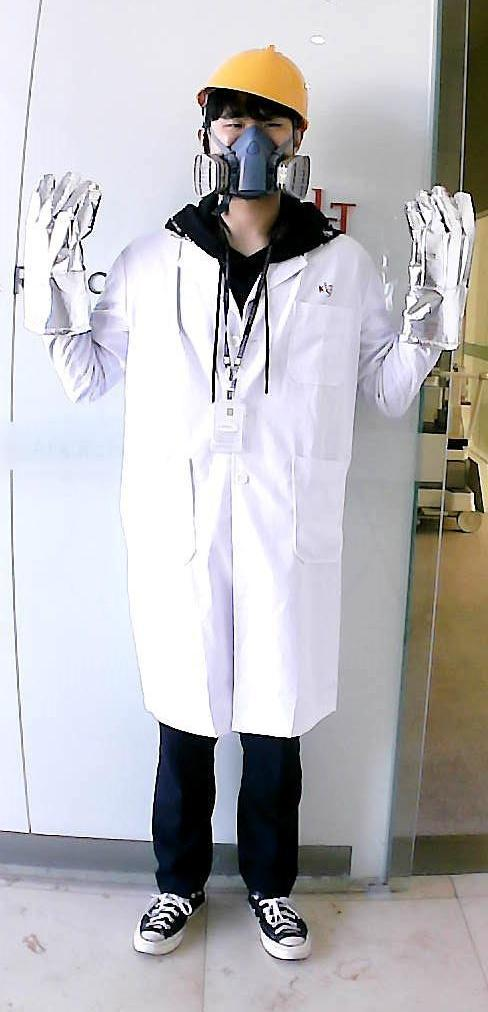lab_coat: (104, 238, 382, 717)
